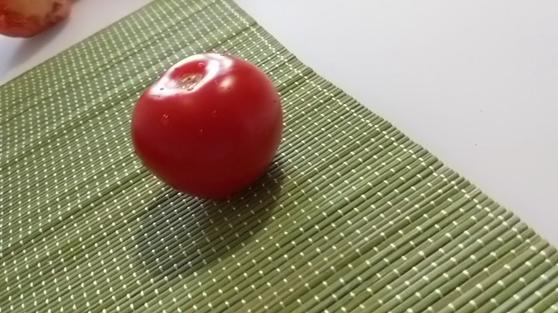tomato: (131, 54, 284, 200)
